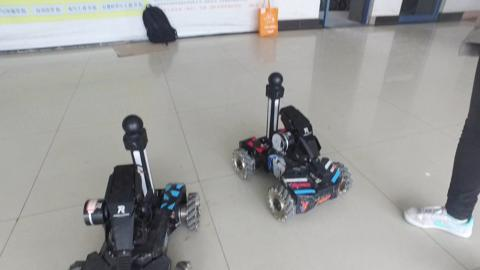chariot: (73, 110, 202, 270), (232, 65, 356, 226)
